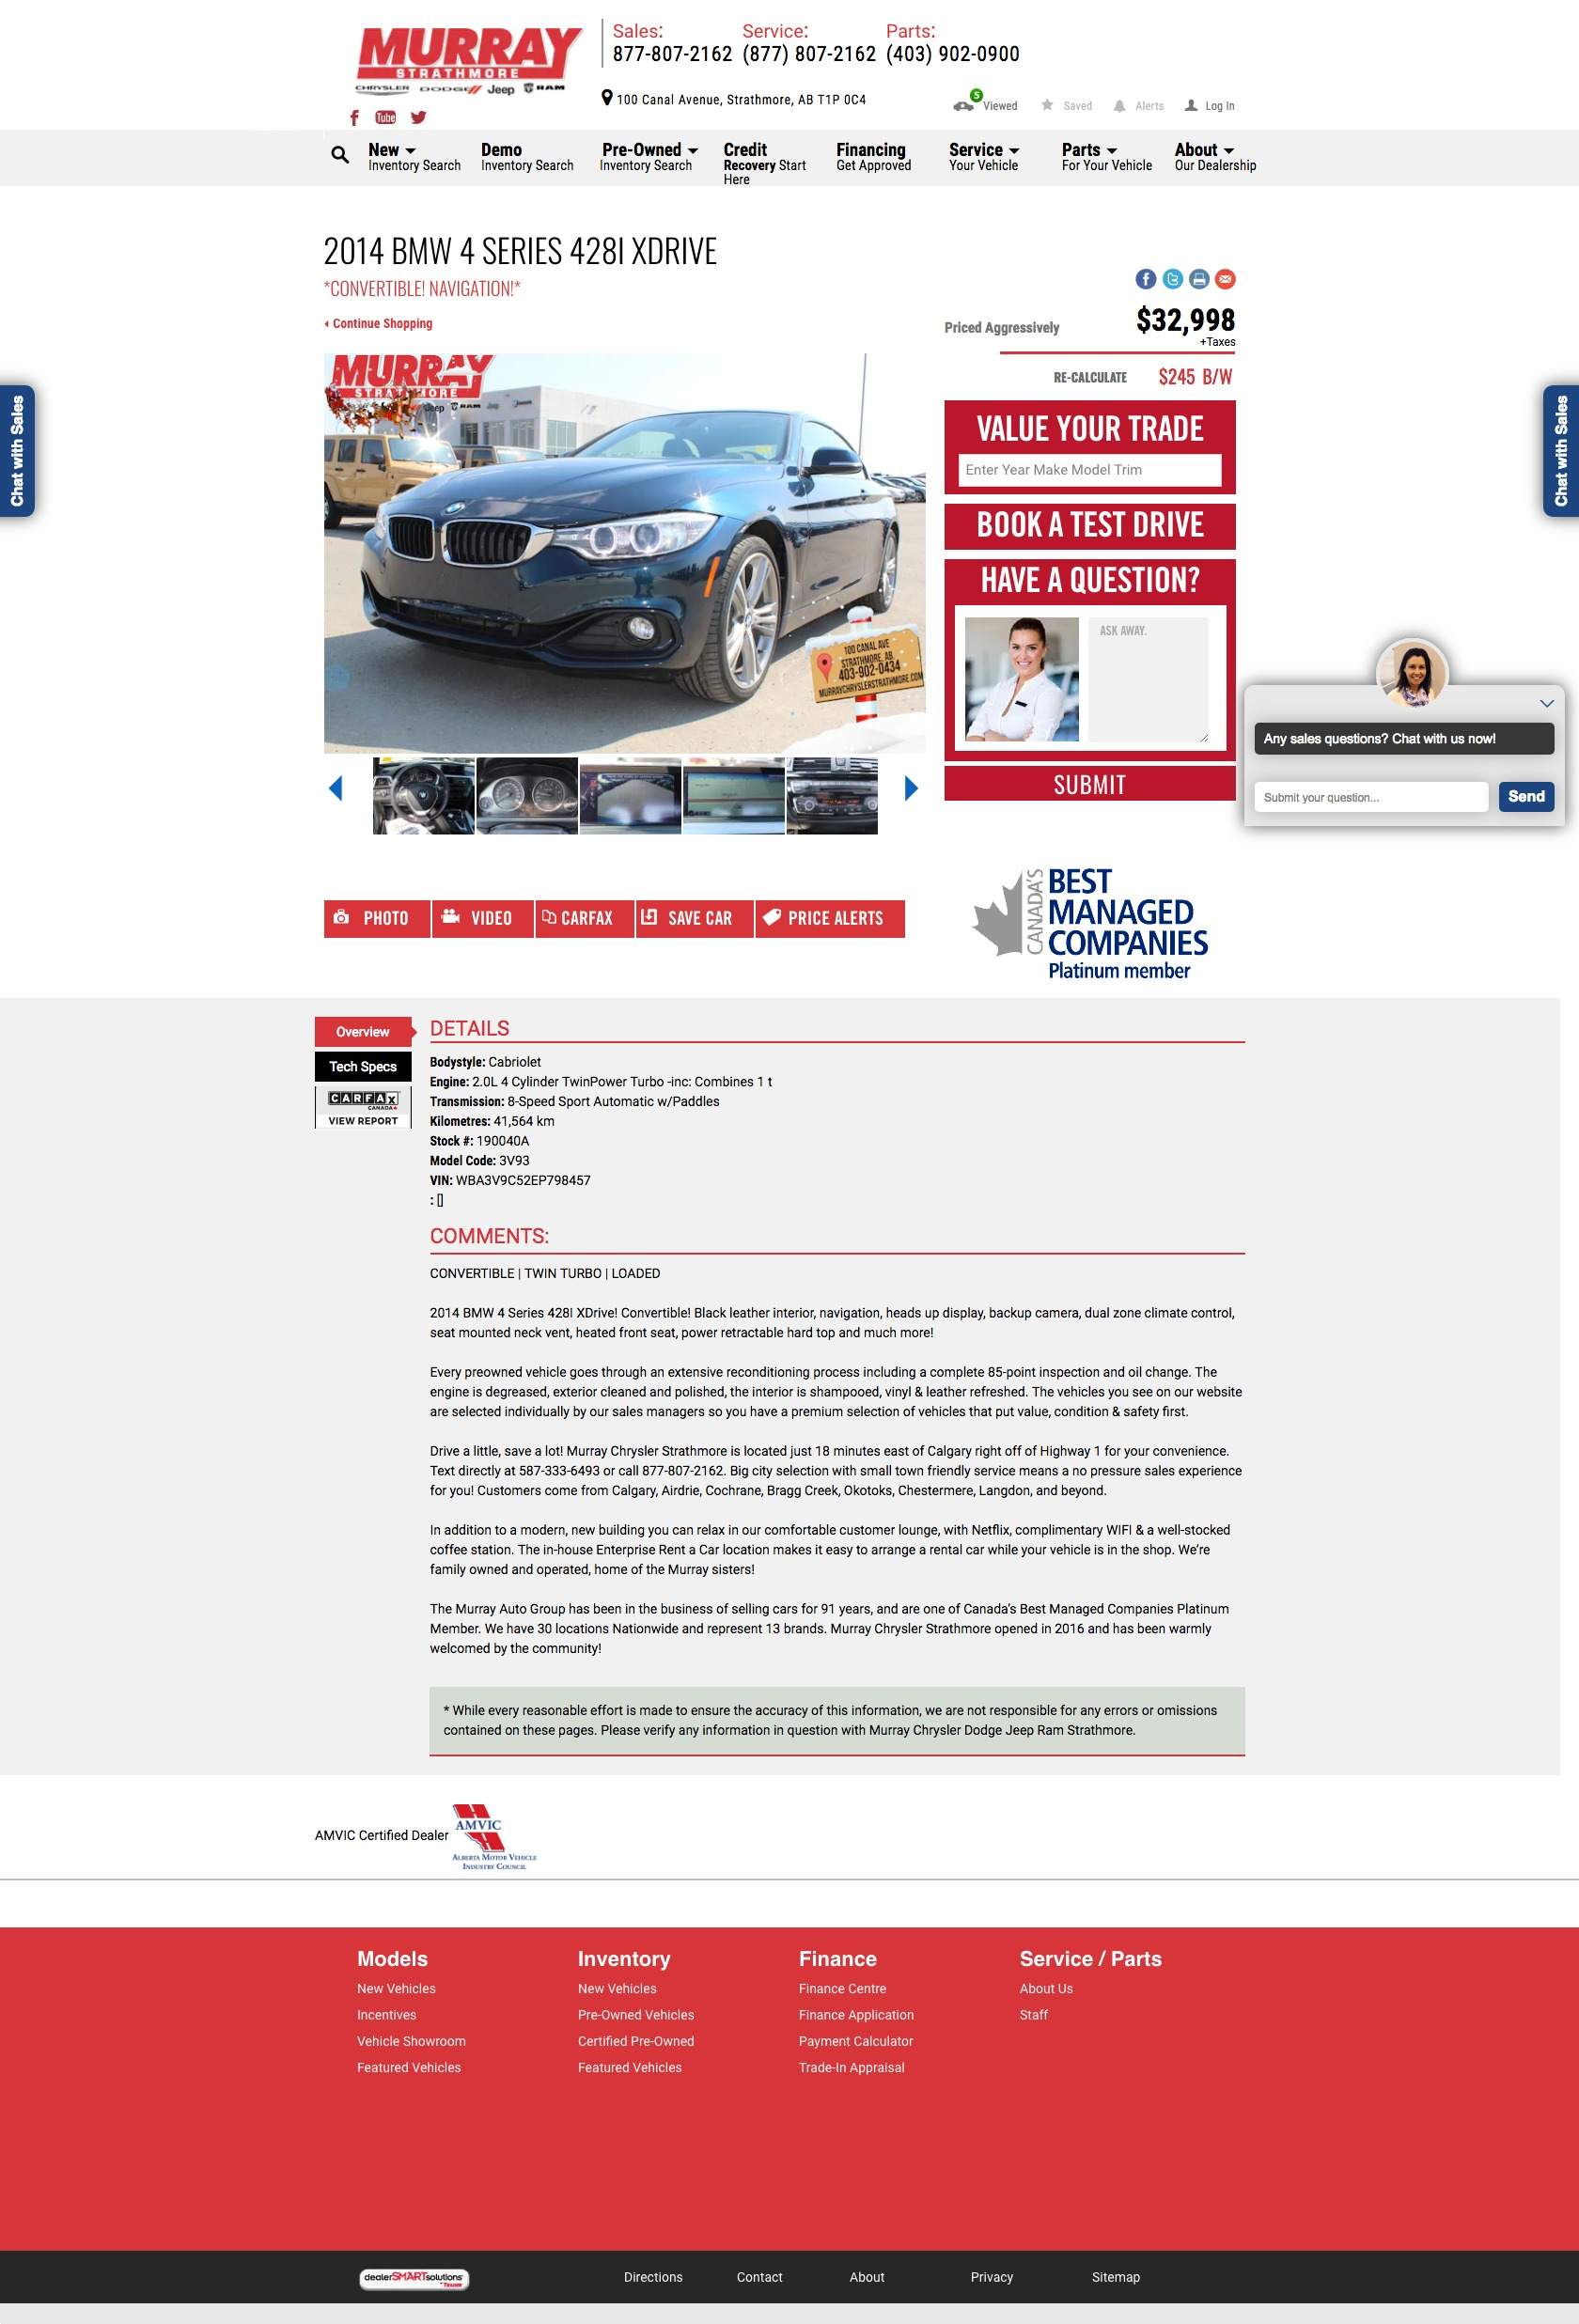car: (902, 773, 922, 803)
